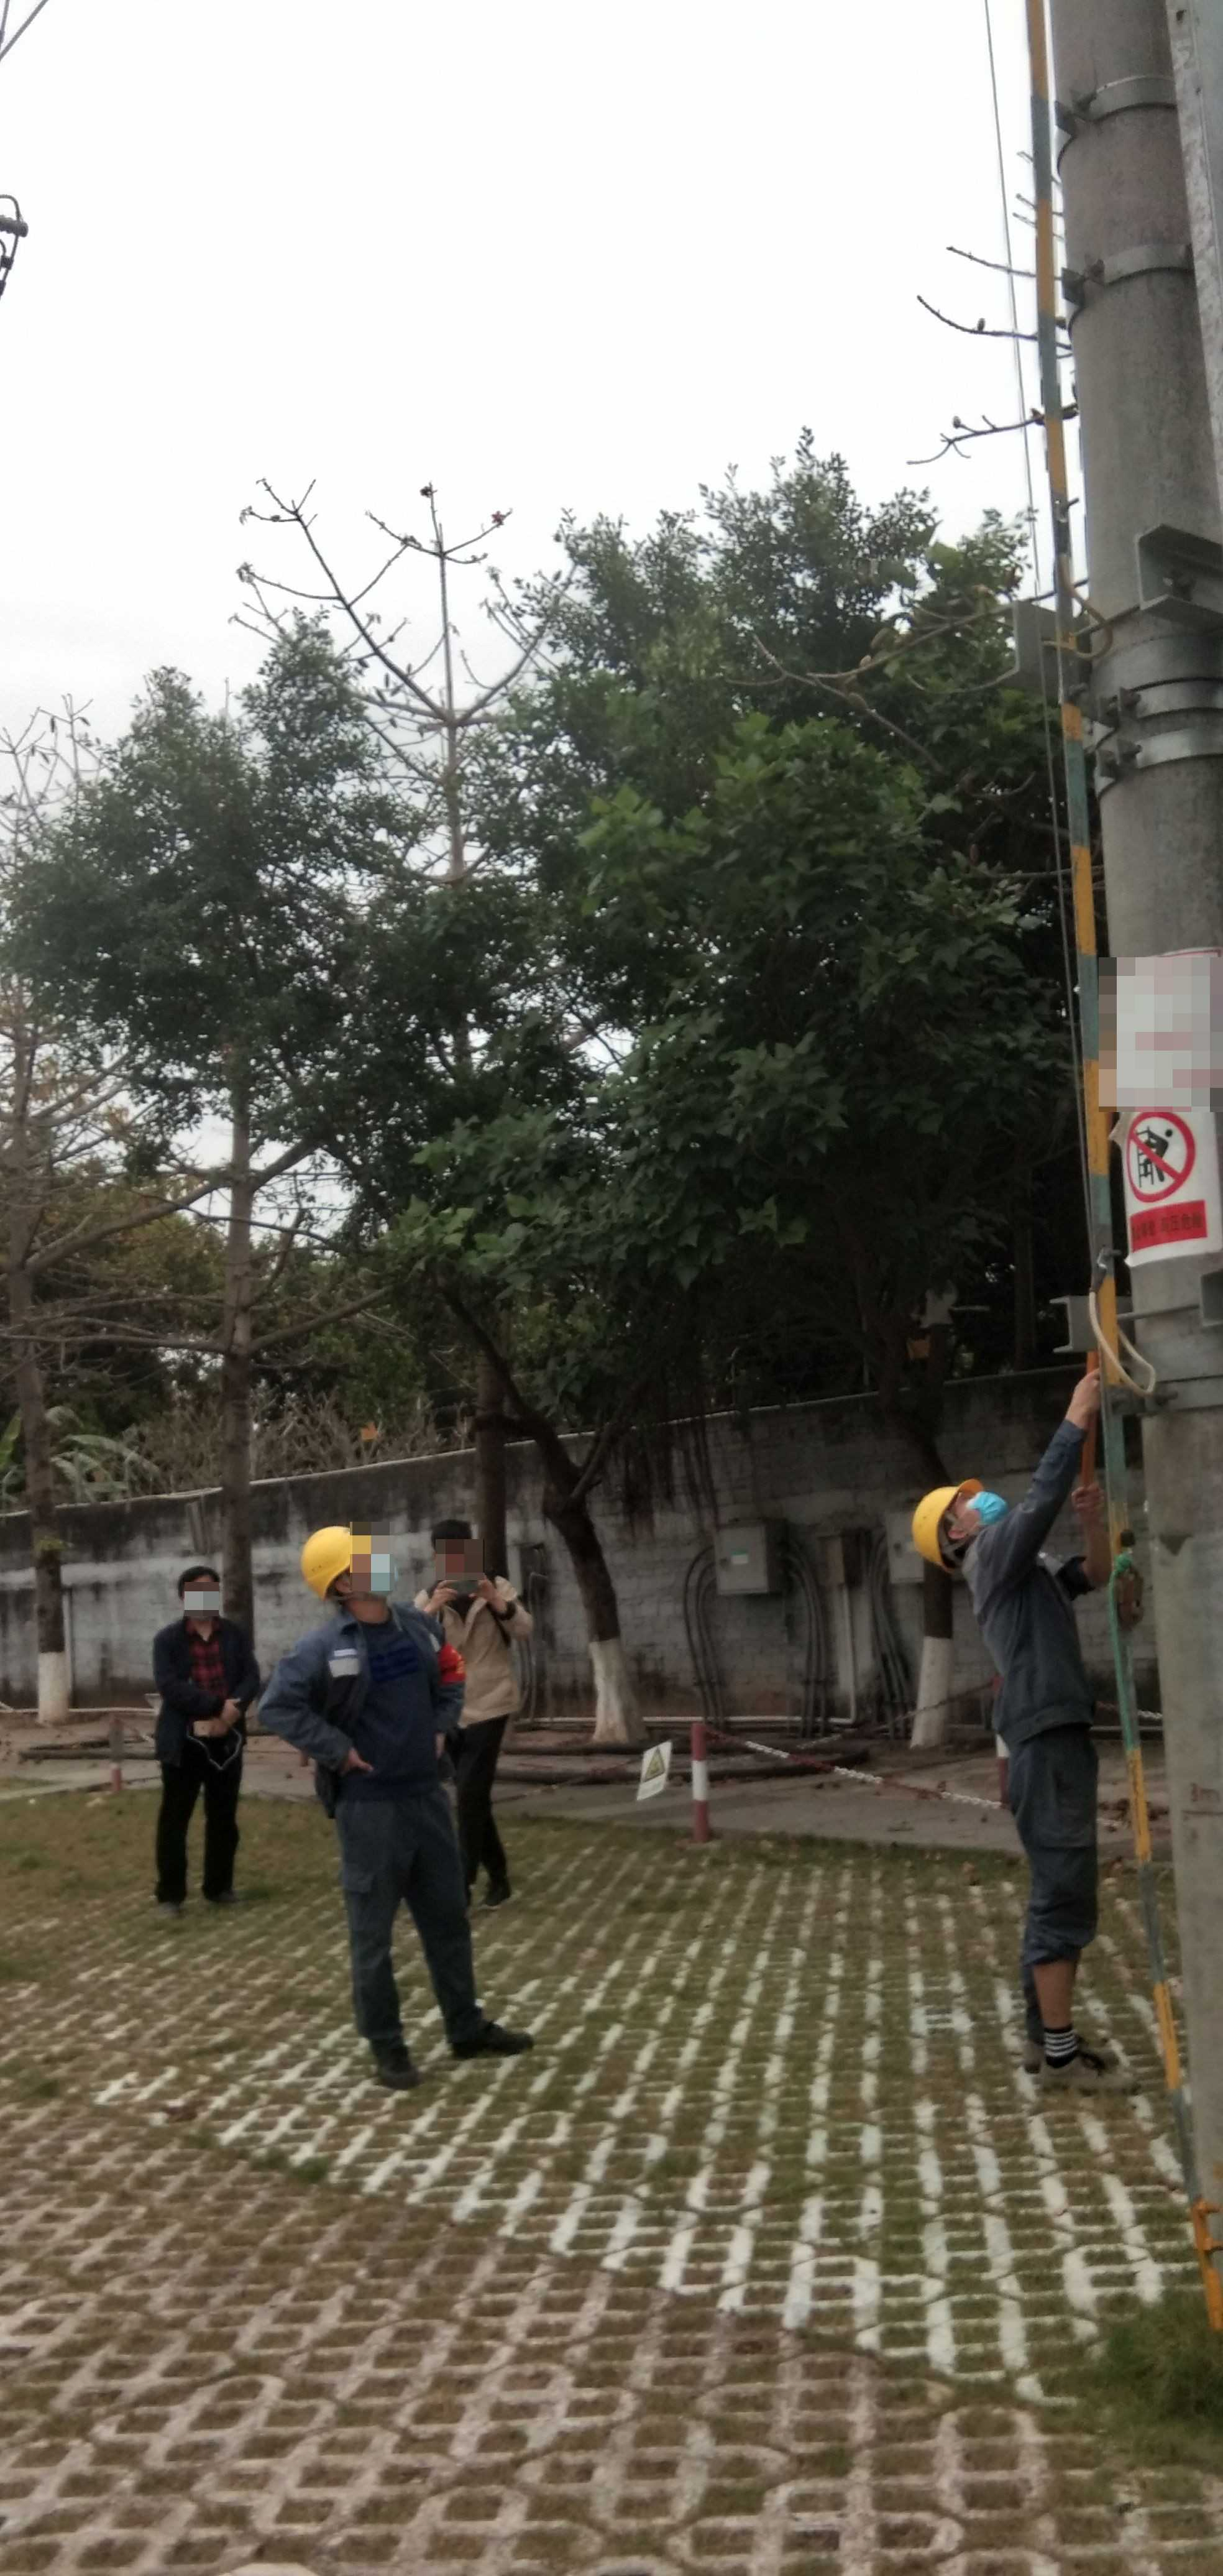downcloth: (161, 1756, 241, 1894)
downsuit: (337, 1817, 483, 2040), (1001, 1750, 1105, 1988)
upcloth: (154, 1625, 251, 1753)
upsuit: (269, 1613, 456, 1794), (964, 1511, 1108, 1743)
wrongbottom: (1021, 1911, 1092, 2047)
wrongsuit: (337, 1623, 450, 1743)
